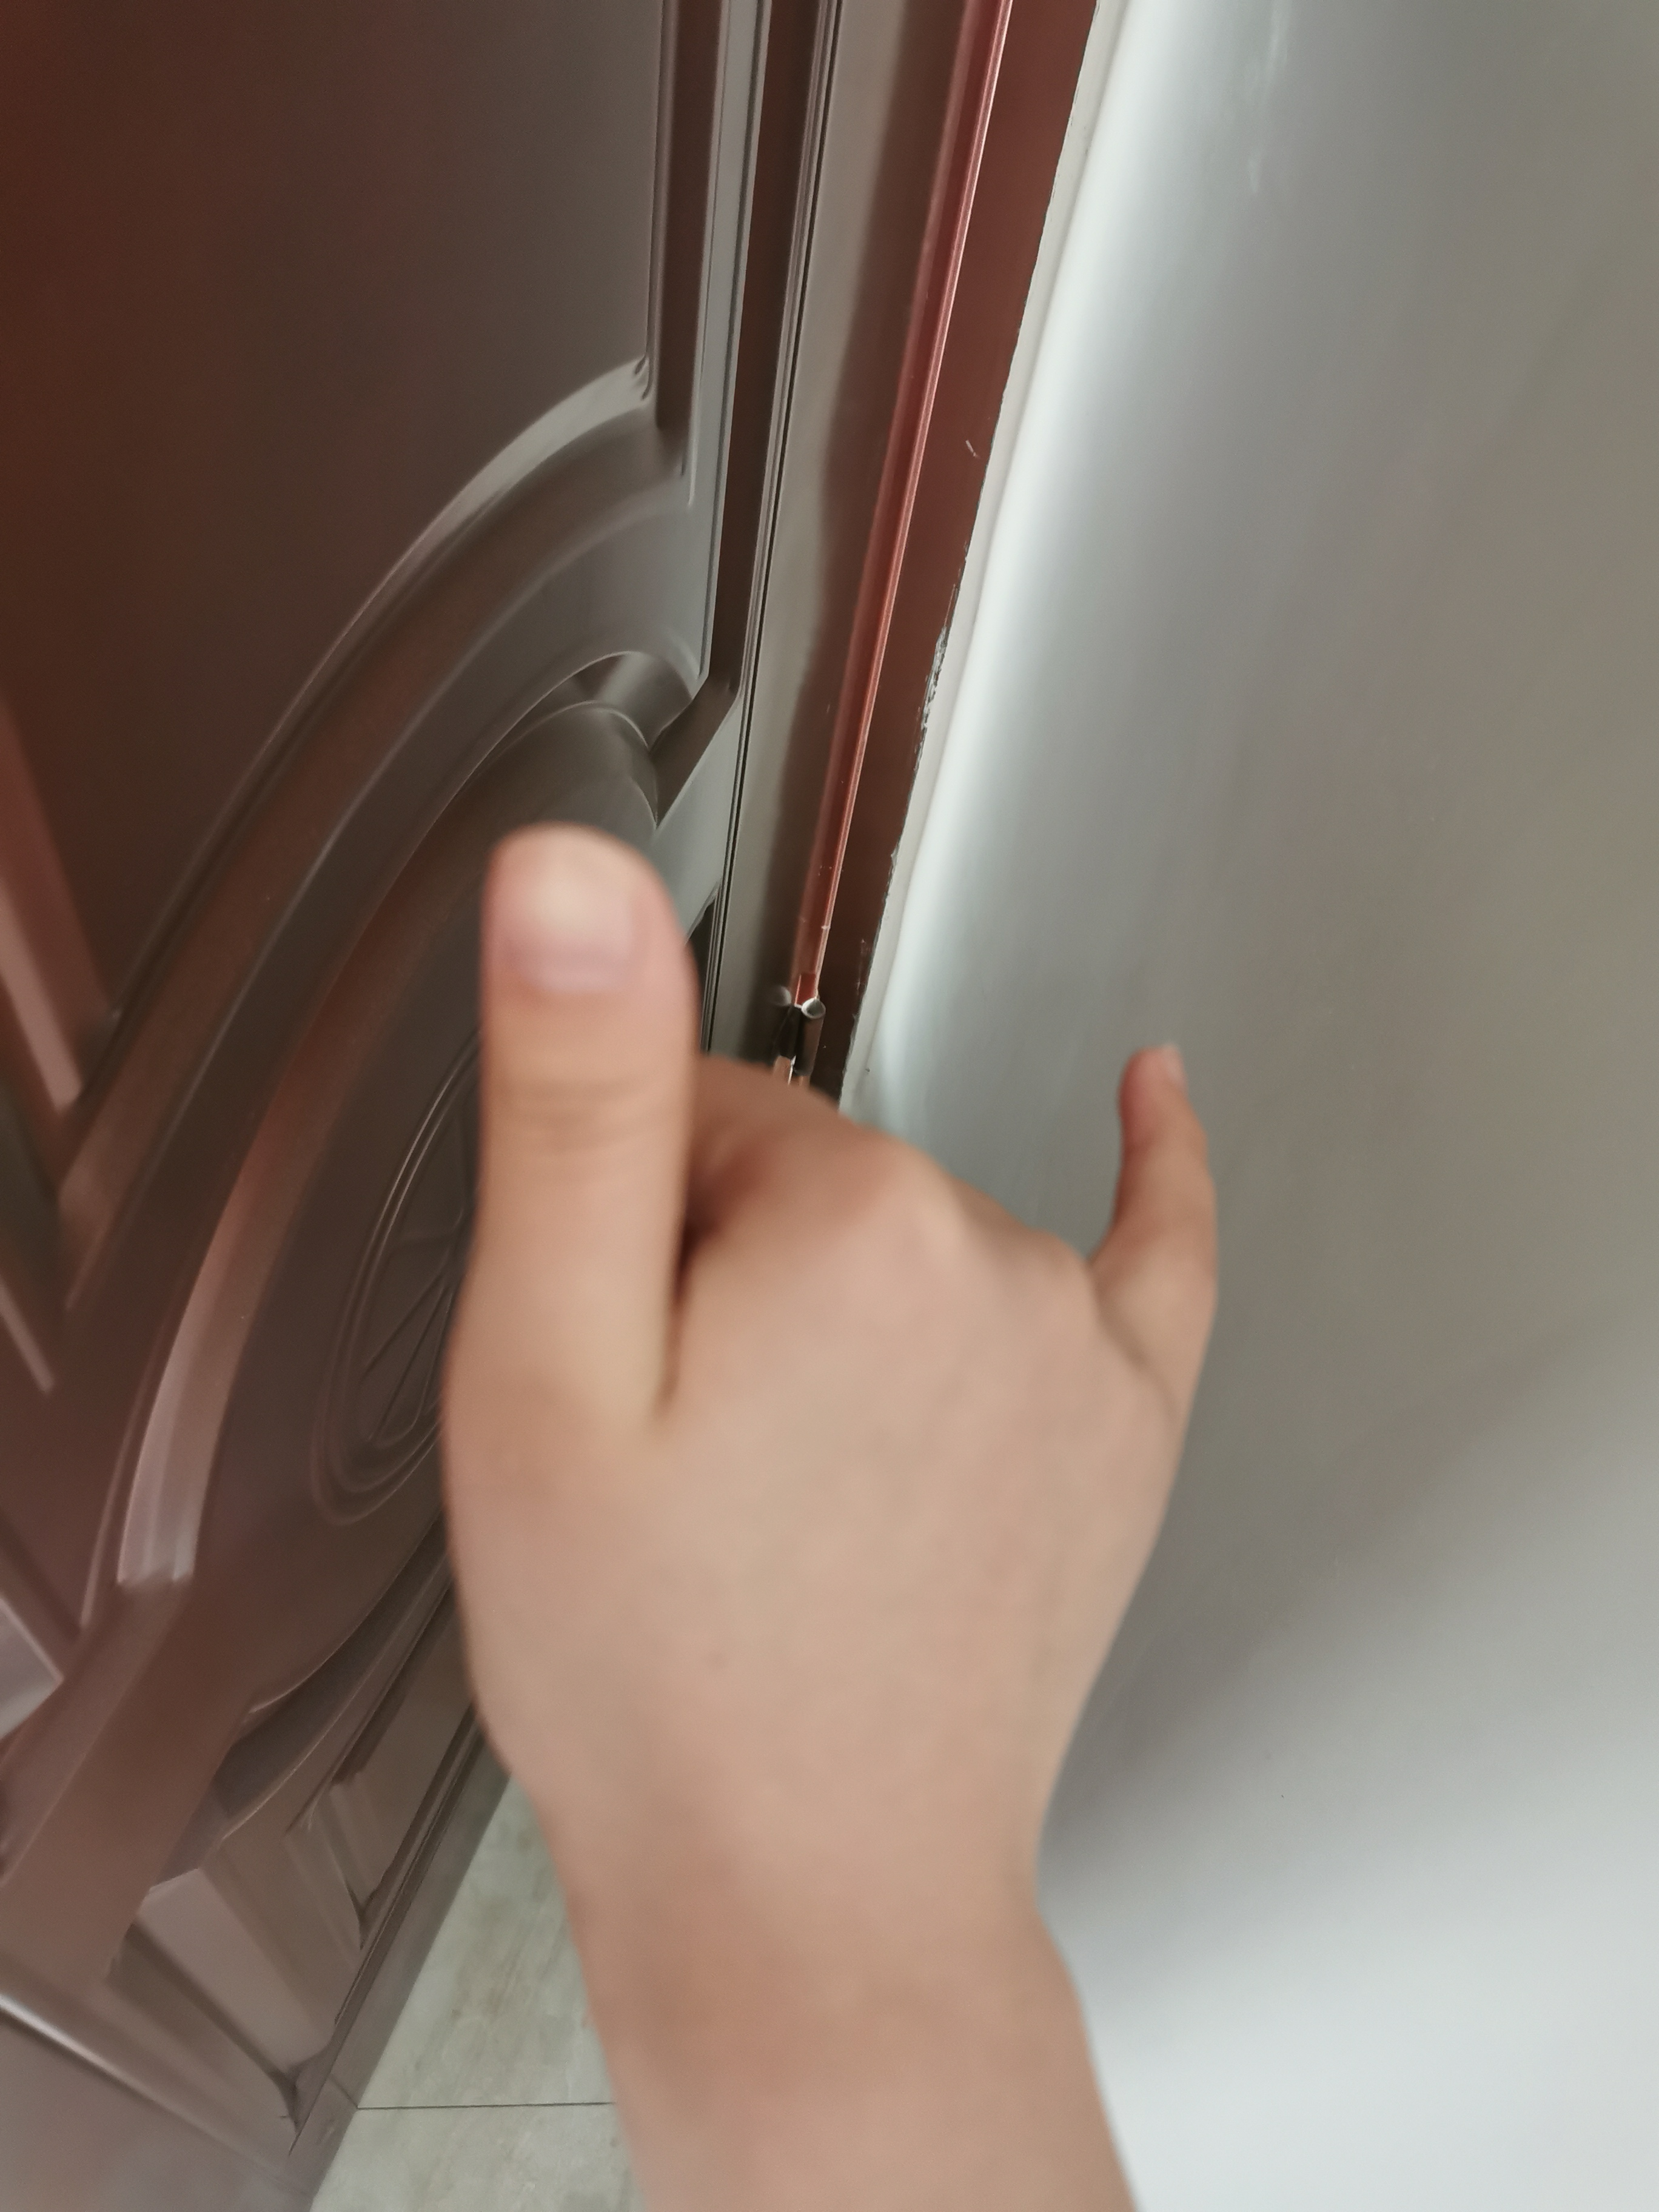clockwise: (397, 820, 1243, 1865)
